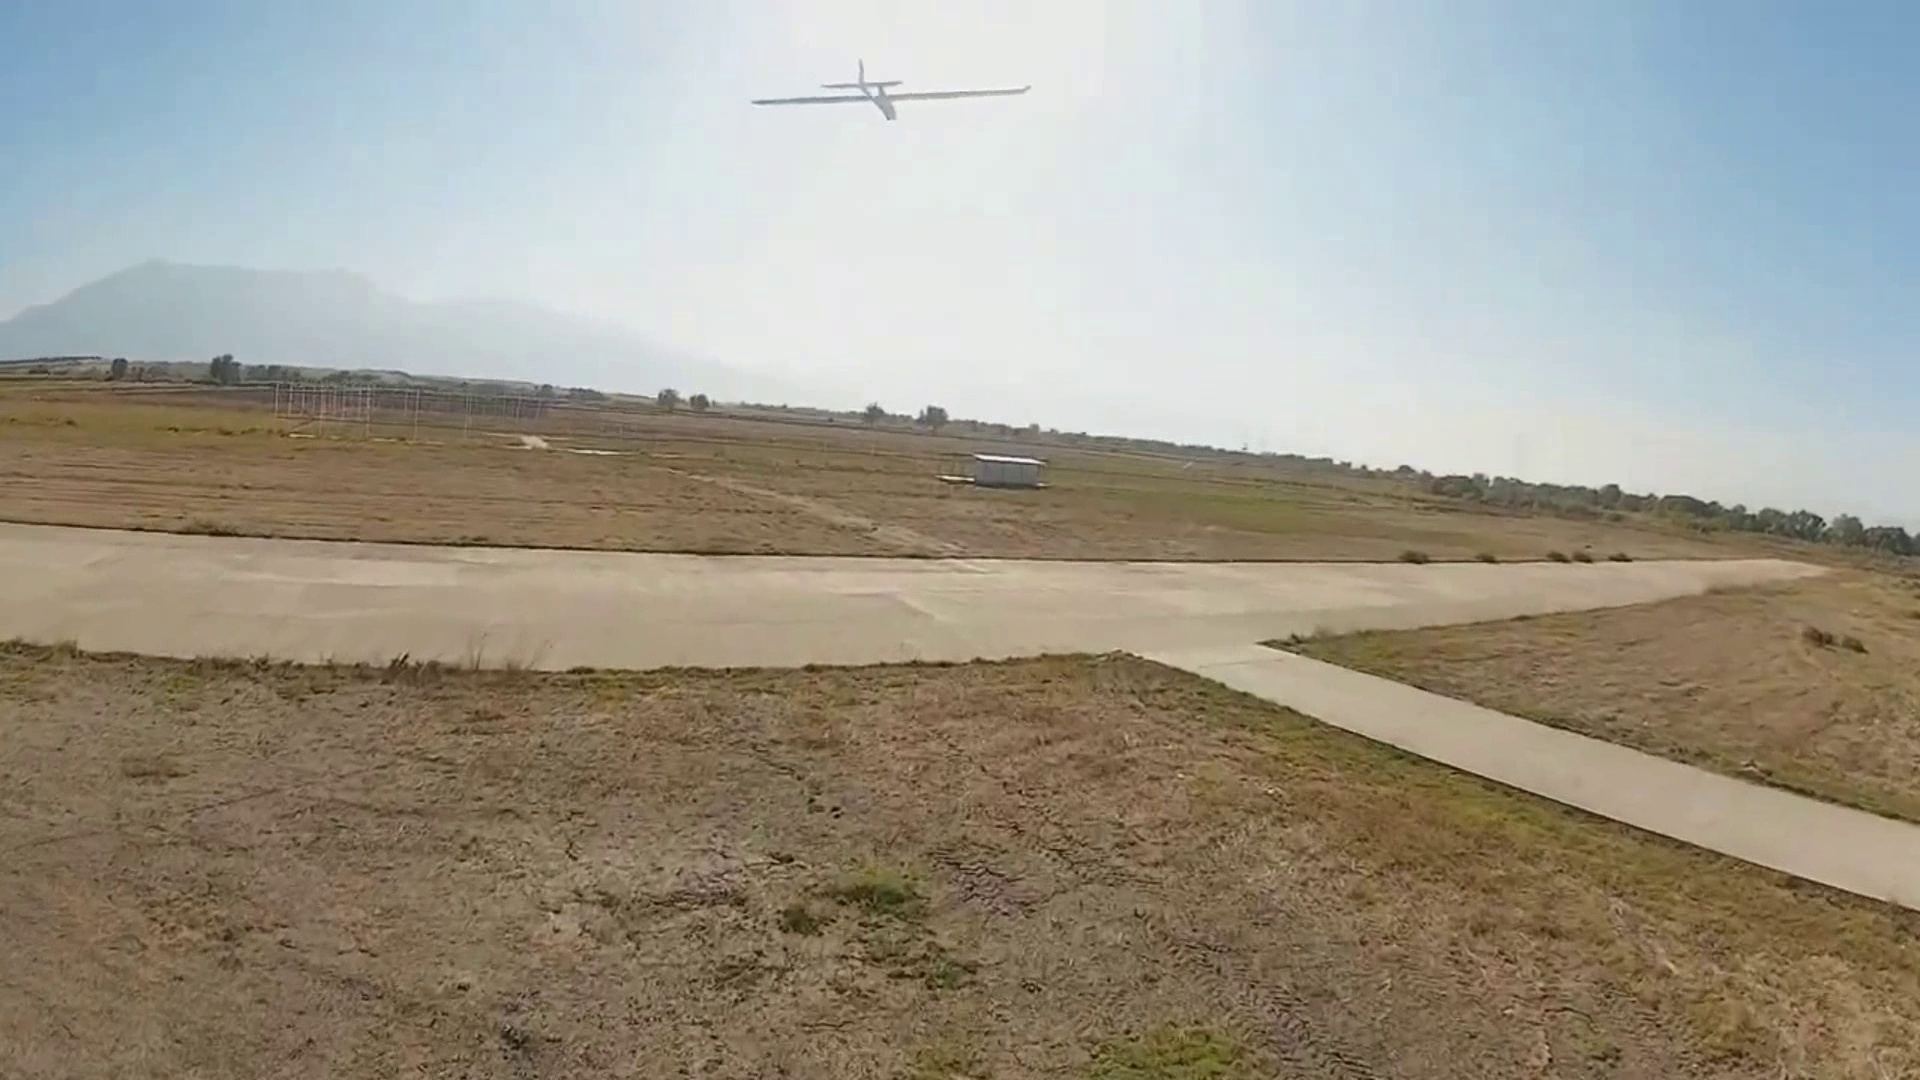airplane: (748, 64, 1032, 123)
